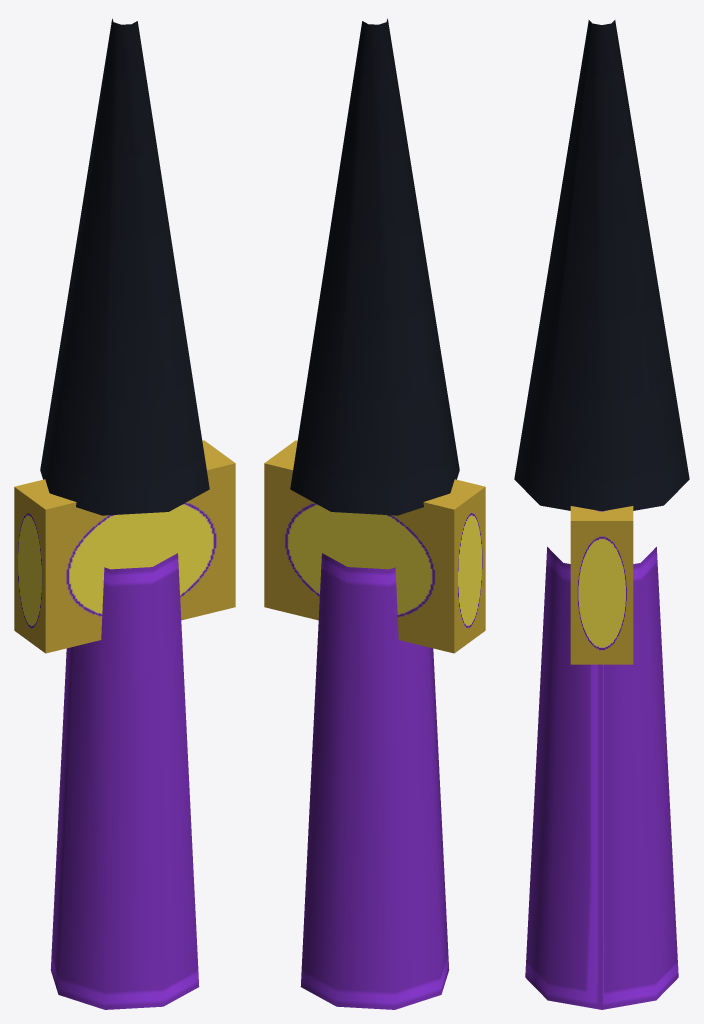
The model's file is weapon_void_edge.glb.
The picture shows the model from 3 angles, left to right: view 1: azimuth 30°, elevation 25°; view 2: azimuth 150°, elevation 25°; view 3: azimuth 270°, elevation 25°; orthographic projection.
Parts seen in each view (by area): view 1: weapon_void_edge; view 2: weapon_void_edge; view 3: weapon_void_edge.
Part boxes in pixels (x1,y1,x2,y2): weapon_void_edge: (14,18,235,1009); weapon_void_edge: (264,18,485,1009); weapon_void_edge: (514,20,689,1009).
Size of the model in its own units: 0.28 by 1.35 by 0.224.
1 material, 1 textured.
